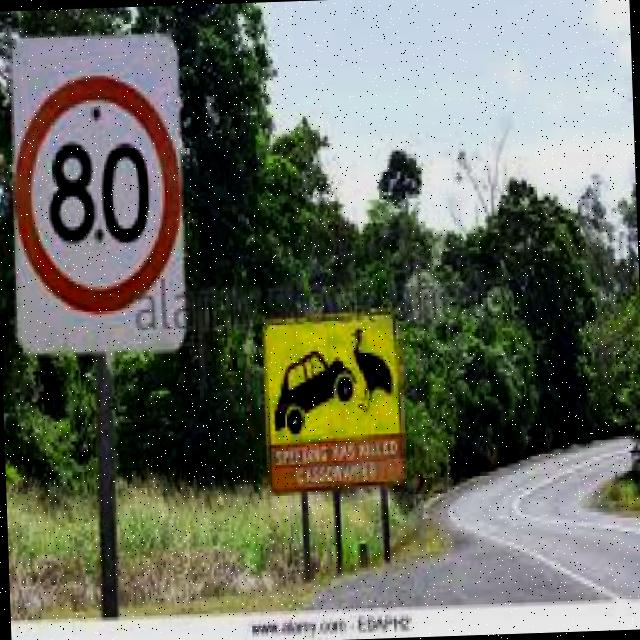Ograniczenie predkosci do 80: (15, 86, 178, 300)
